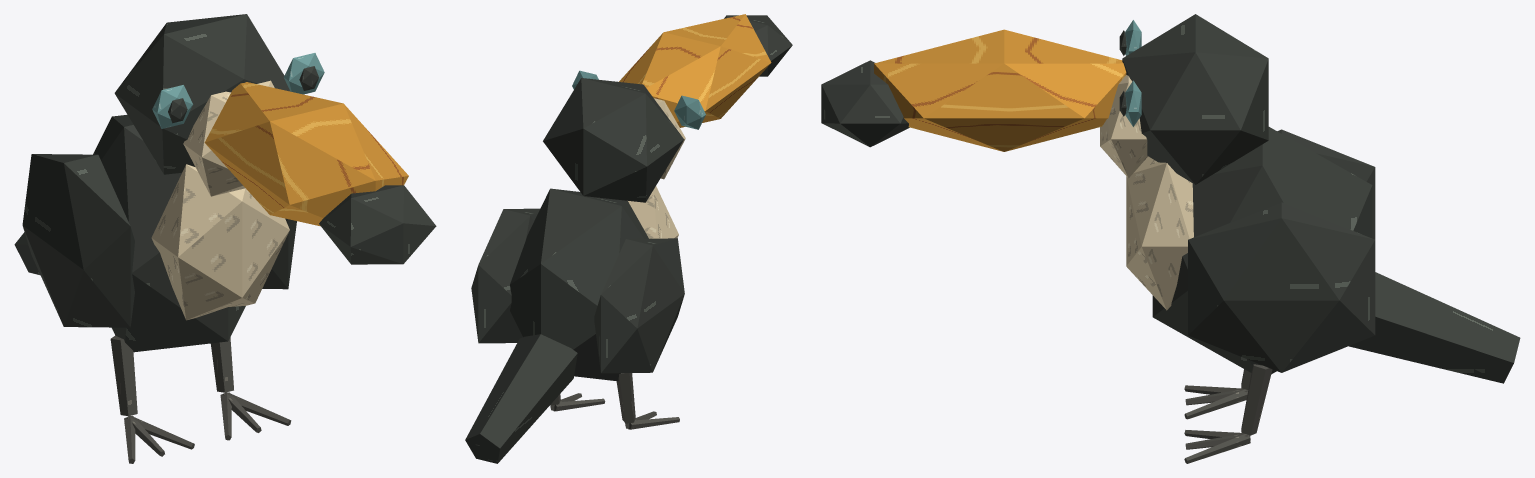
File: animal-tucano-v01.gltf
3 renders of one model, left to right at view 1: azimuth 30°, elevation 25°; view 2: azimuth 150°, elevation 25°; view 3: azimuth 270°, elevation 25°, orthographic. The views are drawn at different scales.
Visible parts, largest first — view 1: cabeca, corpo, asa-esquerda, perna-esquerda, perna-direita, asa-direita, cauda; view 2: cabeca, corpo, asa-esquerda, cauda, asa-direita, perna-esquerda, perna-direita; view 3: cabeca, asa-direita, corpo, cauda, perna-direita, perna-esquerda, asa-esquerda.
Part boxes in pixels (box(x1,y1,x2,y2)): cabeca: box(114, 14, 436, 264); corpo: box(93, 114, 289, 352); asa-esquerda: box(22, 154, 134, 327); perna-esquerda: box(110, 335, 194, 463); perna-direita: box(210, 337, 291, 440); asa-direita: box(262, 218, 296, 289); cauda: box(14, 232, 40, 275); cabeca: box(543, 14, 792, 202); corpo: box(510, 186, 678, 381); asa-esquerda: box(594, 238, 684, 373); cauda: box(465, 334, 577, 463); asa-direita: box(471, 208, 539, 343); perna-esquerda: box(616, 373, 679, 429); perna-direita: box(550, 393, 605, 411); cabeca: box(821, 14, 1268, 184); asa-direita: box(1188, 202, 1375, 372); corpo: box(1126, 127, 1372, 374); cauda: box(1349, 272, 1520, 383); perna-direita: box(1184, 364, 1272, 463); perna-esquerda: box(1184, 369, 1251, 419); asa-esquerda: box(1277, 129, 1375, 239).
Bounding box in the file's own units: 0.4876 × 0.91 × 1.46.
1 material, 1 textured.
